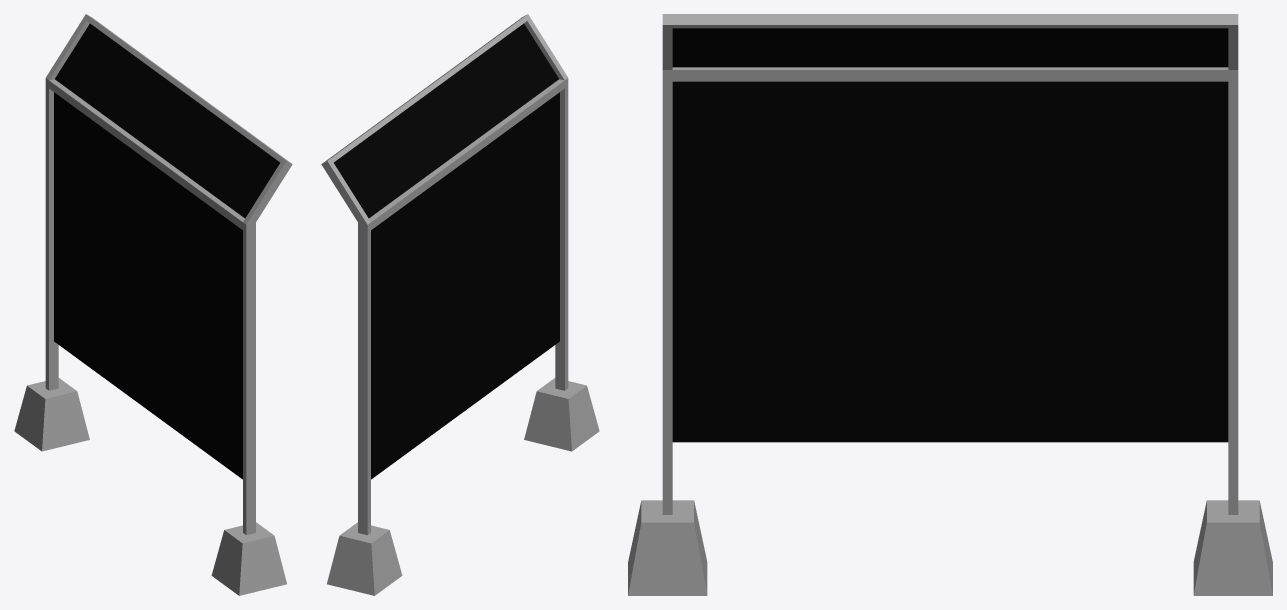
The model's file is RoofTop_Fence.fbx.
3 views of the same model, side by side, from view 1: azimuth 30°, elevation 25°; view 2: azimuth 150°, elevation 25°; view 3: azimuth 270°, elevation 25° (orthographic). The views are drawn at different scales.
Parts seen in each view (by area): view 1: RoofTop_Fence1; view 2: RoofTop_Fence1; view 3: RoofTop_Fence1.
Part boxes in pixels (bbox=[...]): RoofTop_Fence1: bbox=[14, 14, 292, 595]; RoofTop_Fence1: bbox=[321, 14, 599, 595]; RoofTop_Fence1: bbox=[628, 14, 1272, 595].
Bounding box in the file's own units: 0.5752 × 3.45 × 3.42.
